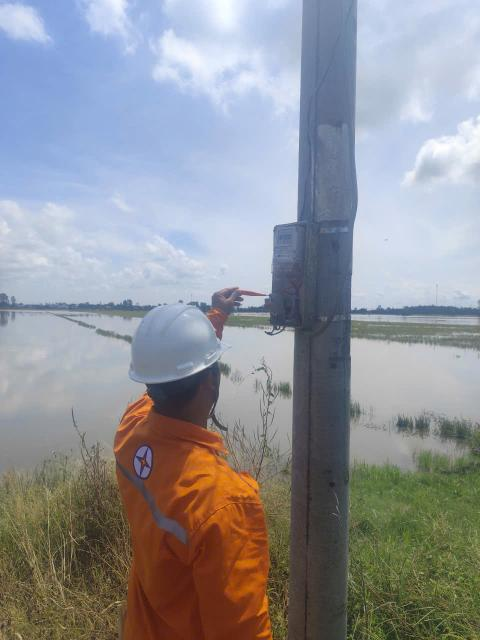helmet: (111, 300, 229, 394)
